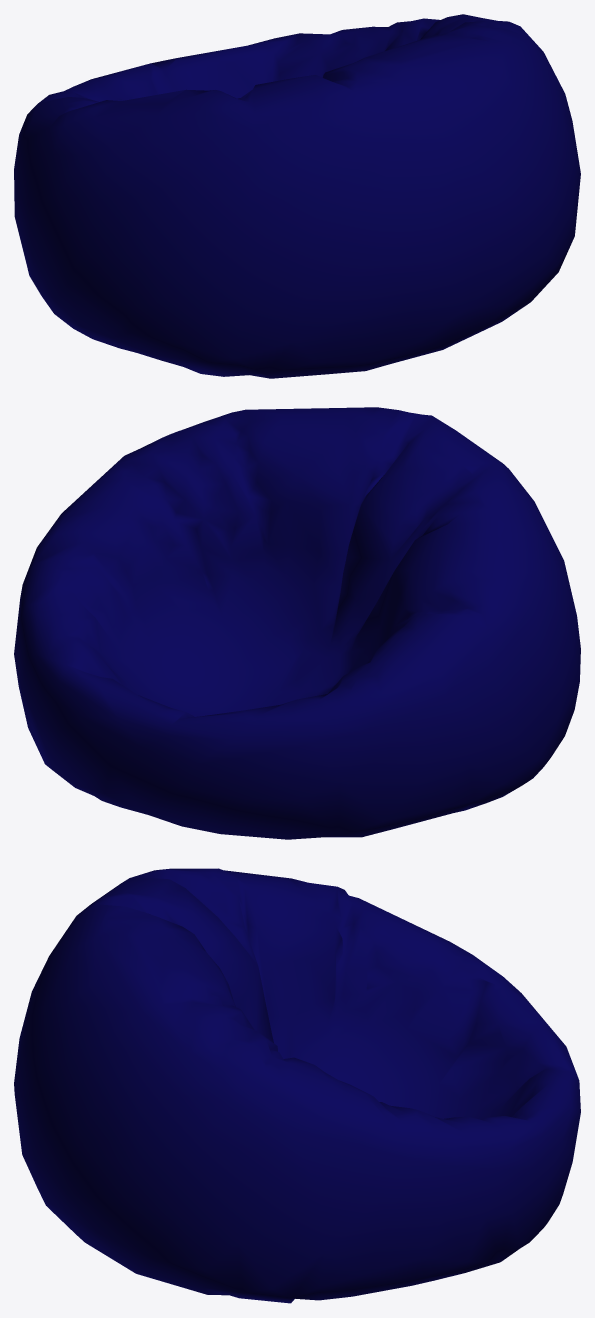
File: bean bag.fbx
3 renders of one model, top to bottom at view 1: azimuth 30°, elevation 25°; view 2: azimuth 150°, elevation 25°; view 3: azimuth 270°, elevation 25°, orthographic. The views are drawn at different scales.
Visible parts, largest first — view 1: bean bag; view 2: bean bag; view 3: bean bag.
Boxes of the visible parts, left/top/right/bottom form: bean bag: left=14, top=14, right=580, bottom=378; bean bag: left=14, top=407, right=580, bottom=839; bean bag: left=14, top=868, right=580, bottom=1303.
Size of the model in its own units: 830 by 422 by 800.
